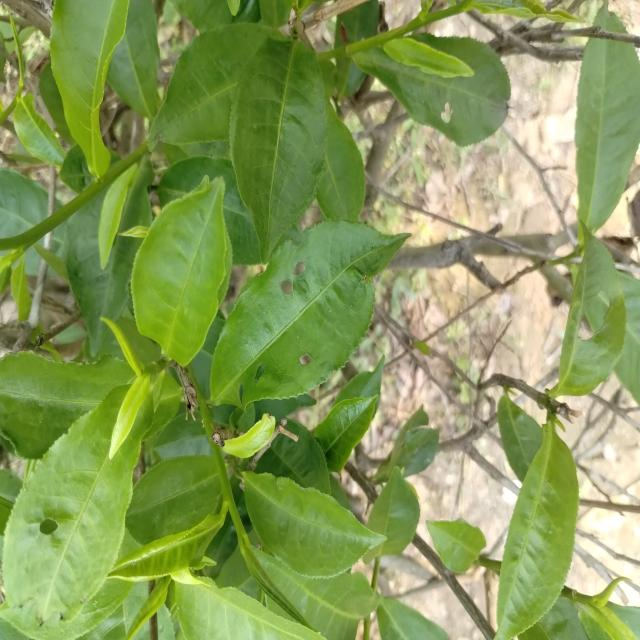Leaf: (3, 386, 152, 640), (210, 221, 408, 408), (230, 38, 327, 262), (131, 177, 231, 366), (496, 418, 578, 640), (355, 34, 510, 146), (149, 23, 272, 146), (243, 471, 385, 577), (0, 352, 133, 459), (50, 0, 129, 178), (550, 227, 626, 396), (63, 194, 142, 356), (575, 39, 640, 232), (256, 550, 376, 640), (108, 503, 227, 581), (177, 578, 323, 640), (125, 455, 222, 545), (107, 0, 159, 120), (316, 105, 365, 220), (255, 421, 330, 494), (363, 468, 420, 562), (314, 396, 378, 472), (497, 393, 543, 482), (98, 166, 137, 269), (14, 94, 65, 166), (383, 38, 474, 77), (109, 375, 150, 459), (615, 273, 640, 405), (0, 169, 48, 237), (427, 519, 486, 573), (377, 597, 448, 640), (334, 356, 384, 416), (127, 575, 171, 640), (153, 415, 211, 460), (101, 317, 143, 377), (119, 162, 151, 231), (397, 427, 439, 477), (334, 0, 379, 46), (171, 0, 233, 32), (11, 255, 31, 322), (336, 58, 365, 101), (595, 0, 626, 34), (25, 248, 40, 274), (52, 230, 65, 252)
